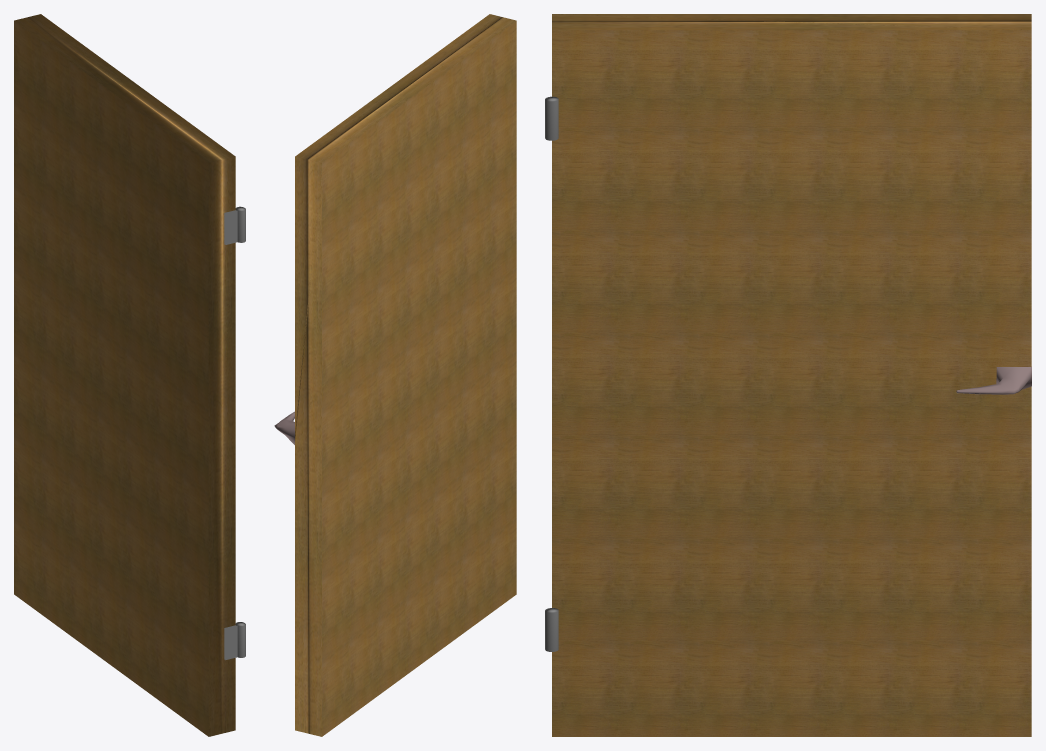
Rendered from DoorToilet.fbx.
3 views of the same model, side by side, from view 1: azimuth 30°, elevation 25°; view 2: azimuth 150°, elevation 25°; view 3: azimuth 270°, elevation 25° (orthographic). The views are drawn at different scales.
Visible parts, largest first — view 1: polySurface2; view 2: polySurface2; view 3: polySurface2, polySurface1.
Boxes of the visible parts, x1,y1,x2,y2 form: polySurface2: (14,14,245,736); polySurface2: (295,14,516,736); polySurface2: (545,14,1031,736); polySurface1: (956,367,1031,394).
Bounding box in the file's own units: 0.2544 × 2.54 × 1.59.
Materials: 3 (1 with a texture image).
